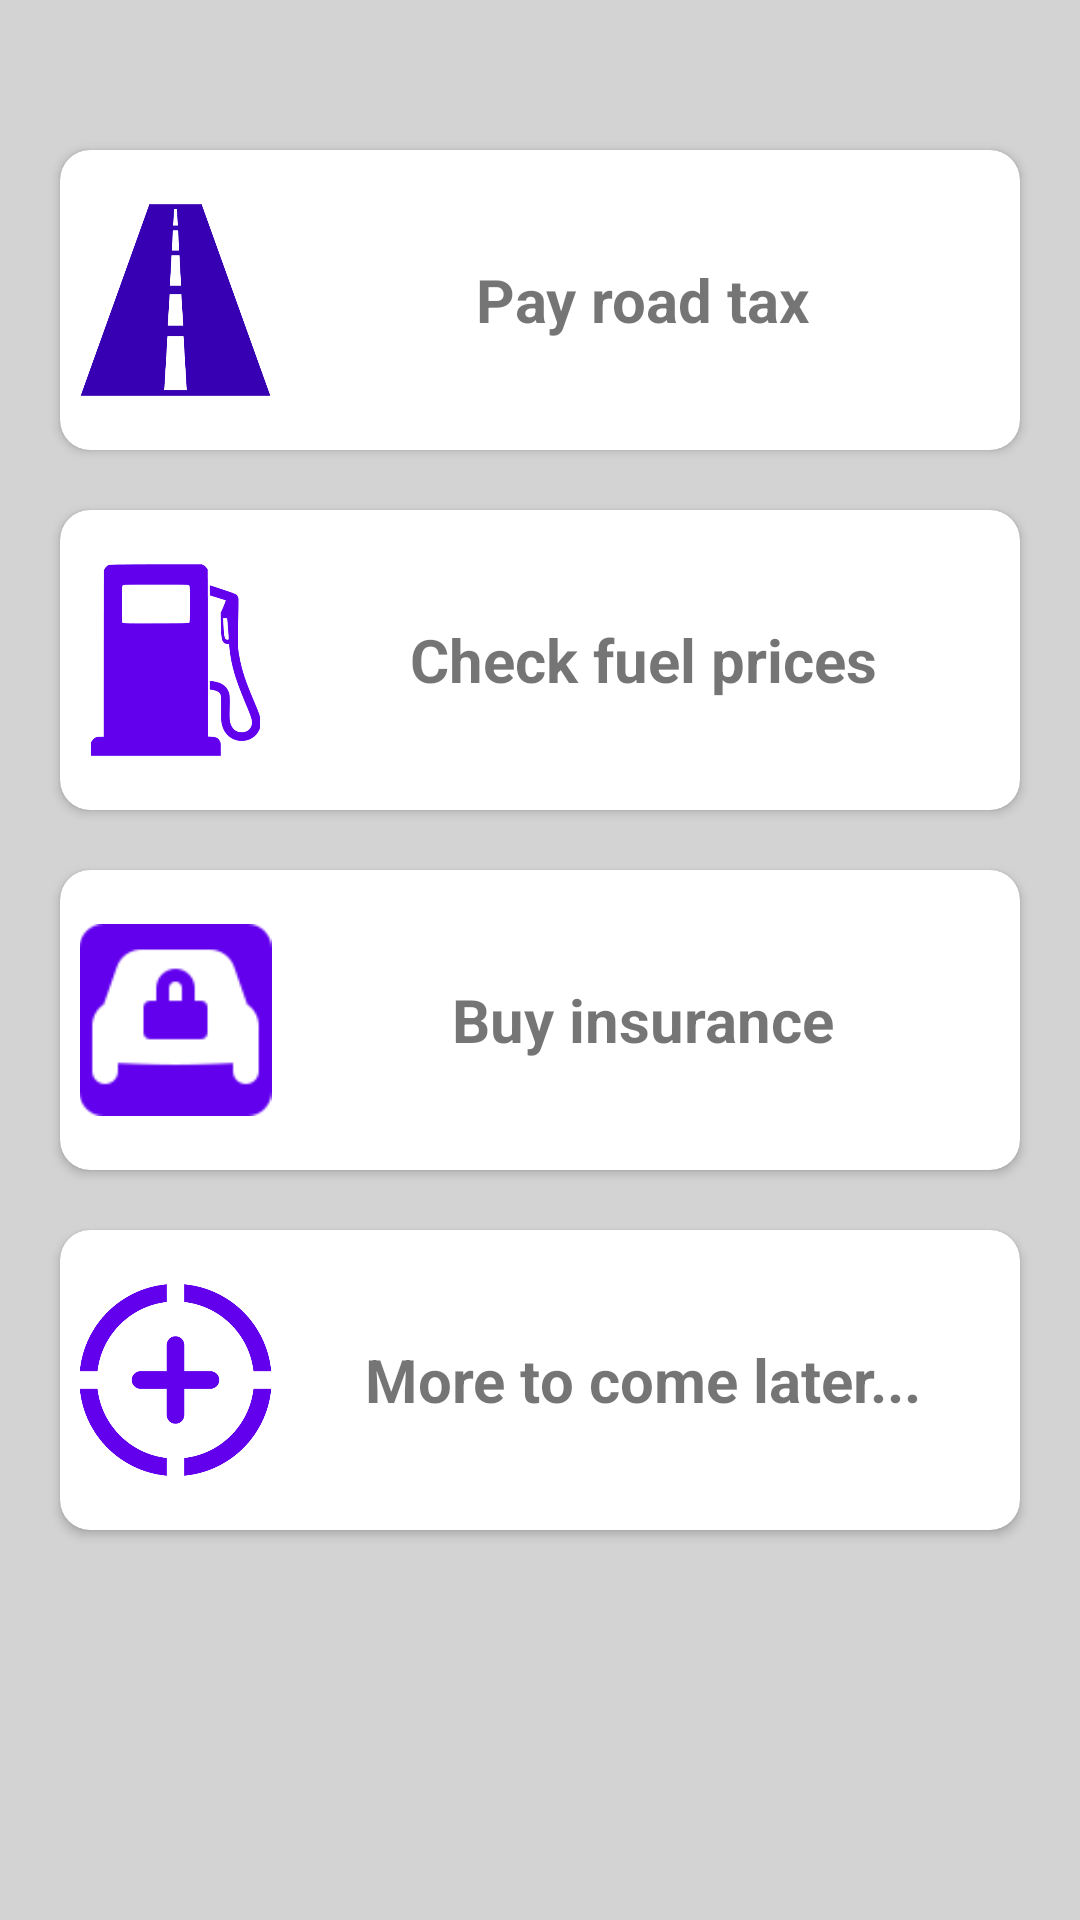

Icons on this 1080 × 1920 Android screen, each with the point to tap as (x=x, y=y):
add: (x=175, y=1380)
gas pump: (x=175, y=660)
